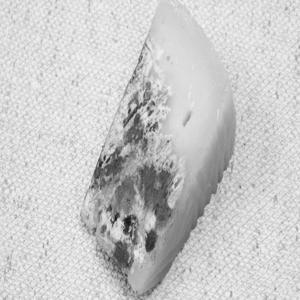cheese: (28, 12, 261, 288)
